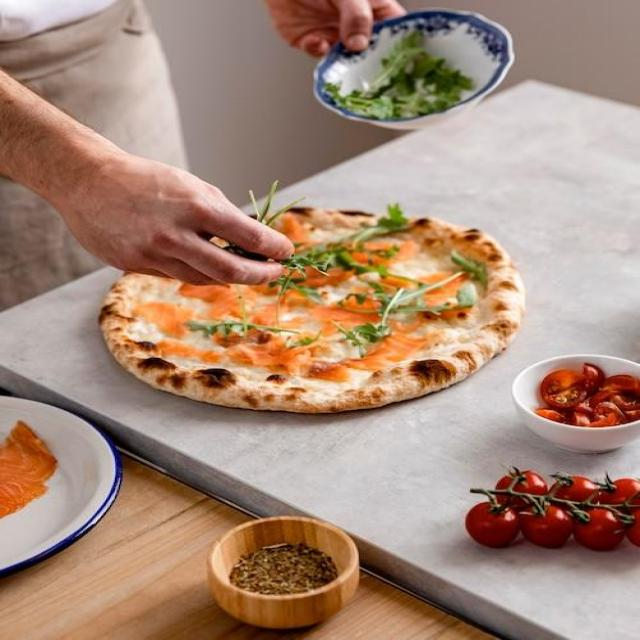basil: (323, 30, 474, 119), (358, 252, 488, 328), (296, 202, 408, 280), (267, 242, 356, 330), (229, 181, 307, 260), (330, 289, 409, 357), (183, 320, 300, 340), (276, 328, 325, 353), (231, 282, 250, 336)
pizza: (98, 209, 526, 414)
